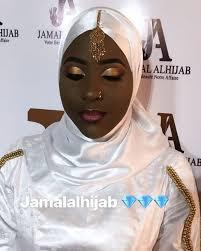No Mask: (57, 16, 149, 169)
